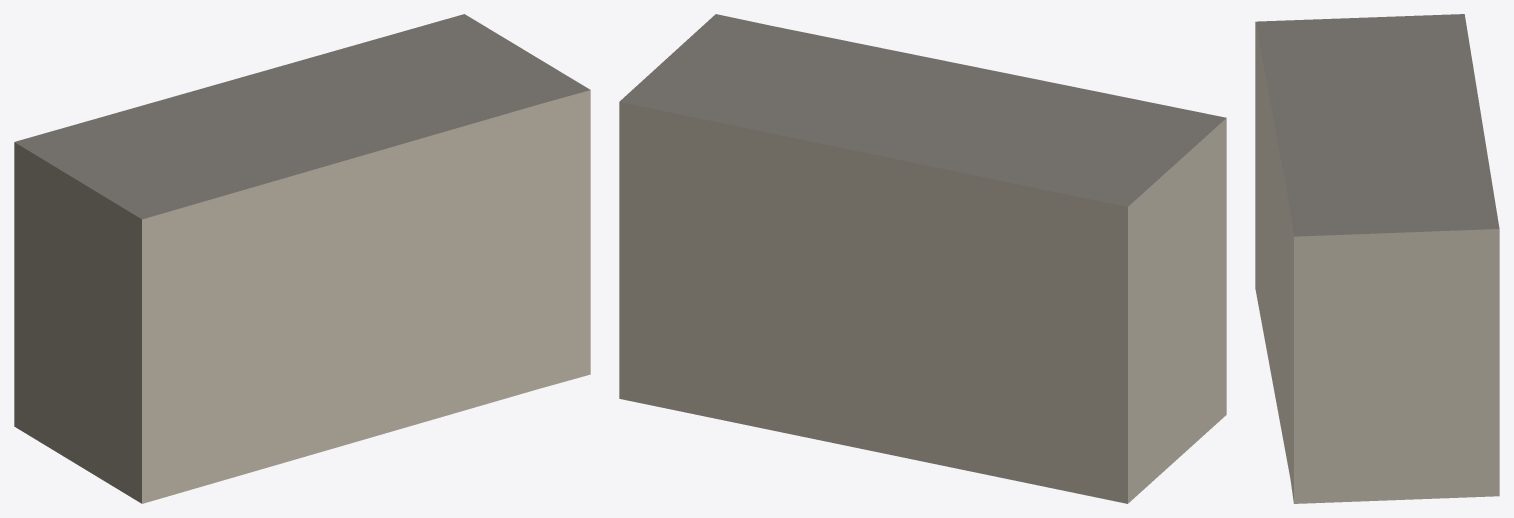
The picture shows the model from 3 angles, left to right: view 1: azimuth 30°, elevation 25°; view 2: azimuth 150°, elevation 25°; view 3: azimuth 270°, elevation 25°; orthographic projection. The views are drawn at different scales.
Parts seen in each view (by area): view 1: HP-w369317514; view 2: HP-w369317514; view 3: HP-w369317514.
Boxes of the visible parts, box(x1,y1,x2,y2) form: HP-w369317514: box(14, 14, 590, 503); HP-w369317514: box(619, 14, 1226, 503); HP-w369317514: box(1255, 14, 1499, 503).
Size of the model in its own units: 32.16 by 18 by 14.9.
